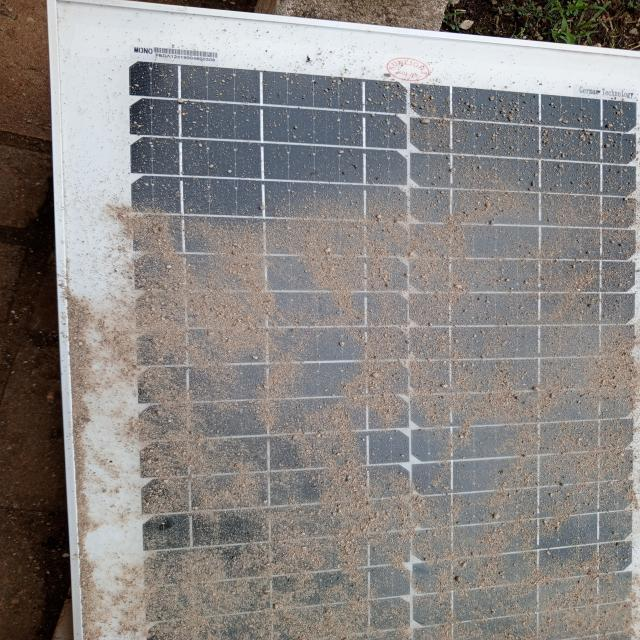Anomaly Solar Panel: (123, 49, 638, 639)
Surface Contaminant: (123, 49, 638, 639)
